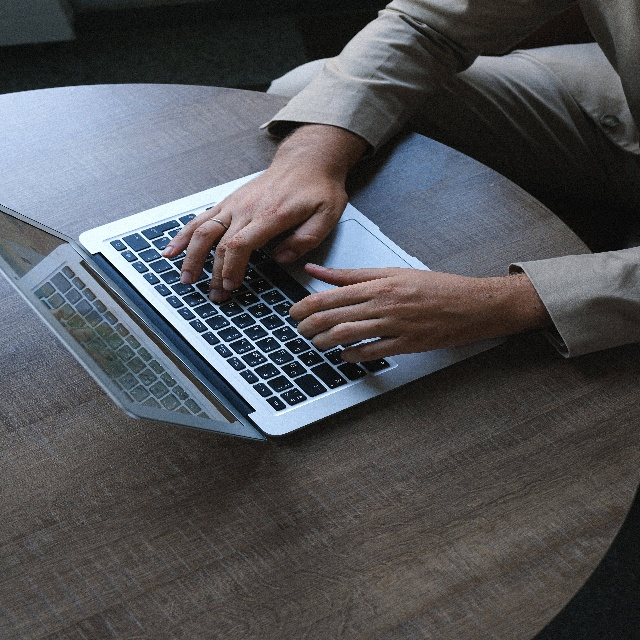Sin_guantes: (162, 159, 351, 305), (286, 253, 501, 370)
